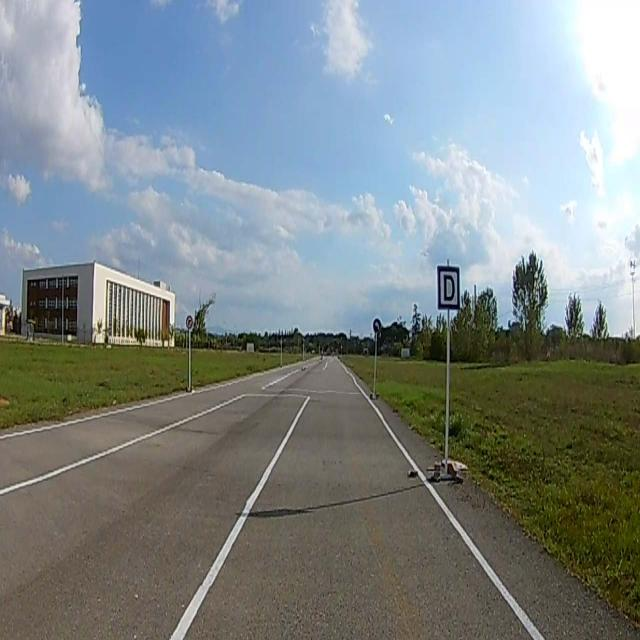durak: (438, 266, 460, 308)
sol: (373, 318, 381, 332)
